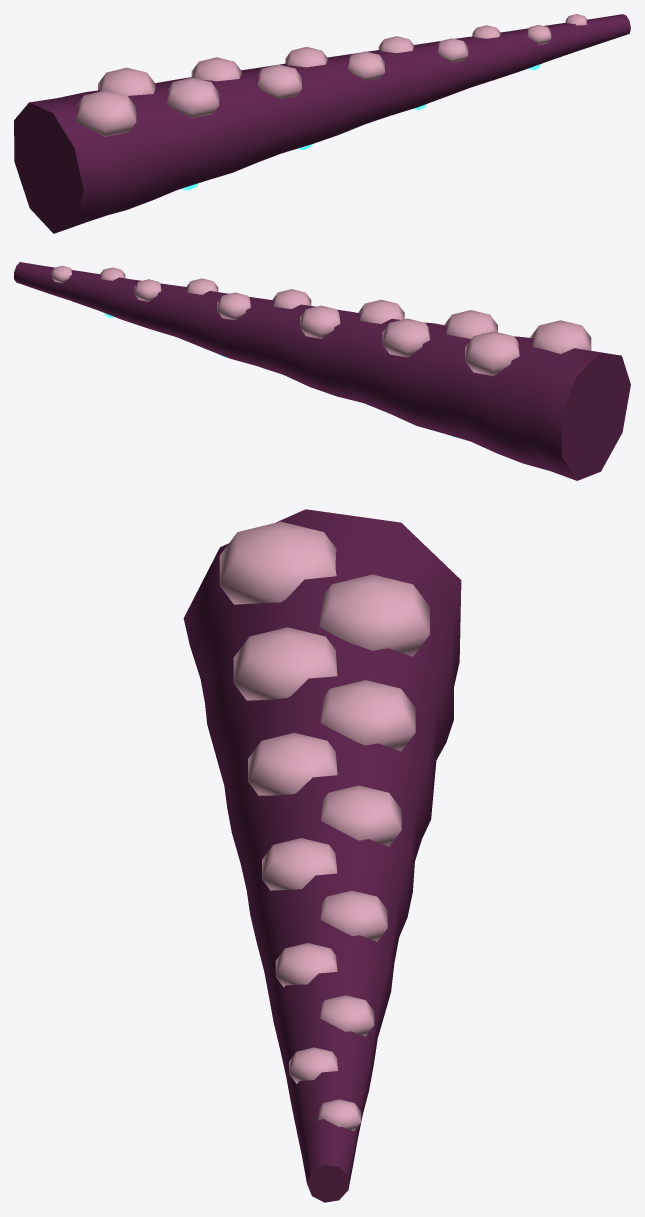
Rendered from kraken-tentacle.glb.
3 views of the same model, one above another, from view 1: azimuth 30°, elevation 25°; view 2: azimuth 150°, elevation 25°; view 3: azimuth 270°, elevation 25° (orthographic). The views are drawn at different scales.
Parts seen in each view (by area): view 1: Mesh_Arm, Mesh_Sucker0, Mesh_Sucker2, Mesh_Sucker1, Mesh_Sucker4, Mesh_Sucker3, Mesh_Sucker6, Mesh_Sucker5, Mesh_Sucker8, Mesh_Sucker7, Mesh_Sucker10; view 2: Mesh_Arm, Mesh_Sucker1, Mesh_Sucker0, Mesh_Sucker3, Mesh_Sucker2, Mesh_Sucker5, Mesh_Sucker4, Mesh_Sucker7, Mesh_Sucker6, Mesh_Sucker9, Mesh_Sucker8; view 3: Mesh_Arm, Mesh_Sucker0, Mesh_Sucker1, Mesh_Sucker2, Mesh_Sucker3, Mesh_Sucker4, Mesh_Sucker5, Mesh_Sucker6, Mesh_Sucker7, Mesh_Sucker8, Mesh_Sucker9, Mesh_Sucker10 (+1 smaller).
Boxes of the visible parts, <box> form: Mesh_Arm: <box>14,14,630,233</box>; Mesh_Sucker0: <box>76,90,136,136</box>; Mesh_Sucker2: <box>166,77,219,118</box>; Mesh_Sucker1: <box>98,67,155,95</box>; Mesh_Sucker4: <box>257,64,301,99</box>; Mesh_Sucker3: <box>191,57,241,81</box>; Mesh_Sucker6: <box>348,51,384,80</box>; Mesh_Sucker5: <box>285,47,327,67</box>; Mesh_Sucker8: <box>437,38,468,62</box>; Mesh_Sucker7: <box>378,36,414,53</box>; Mesh_Sucker10: <box>527,25,551,44</box>; Mesh_Arm: <box>14,262,630,480</box>; Mesh_Sucker1: <box>465,331,519,376</box>; Mesh_Sucker0: <box>530,320,591,353</box>; Mesh_Sucker3: <box>382,318,429,357</box>; Mesh_Sucker2: <box>444,310,497,338</box>; Mesh_Sucker5: <box>300,305,340,338</box>; Mesh_Sucker4: <box>358,299,404,323</box>; Mesh_Sucker7: <box>217,292,250,320</box>; Mesh_Sucker6: <box>272,289,311,308</box>; Mesh_Sucker9: <box>134,279,161,301</box>; Mesh_Sucker8: <box>186,278,218,294</box>; Mesh_Arm: <box>183,509,461,1202</box>; Mesh_Sucker0: <box>219,521,336,604</box>; Mesh_Sucker1: <box>319,574,429,656</box>; Mesh_Sucker2: <box>233,627,337,700</box>; Mesh_Sucker3: <box>320,680,415,751</box>; Mesh_Sucker4: <box>248,732,337,795</box>; Mesh_Sucker5: <box>321,785,401,846</box>; Mesh_Sucker6: <box>262,838,337,890</box>; Mesh_Sucker7: <box>320,890,387,941</box>; Mesh_Sucker8: <box>275,943,337,987</box>; Mesh_Sucker9: <box>320,995,374,1036</box>; Mesh_Sucker10: <box>289,1047,337,1083</box>.
Bounding box in the file's own units: 14 × 3.05 × 2.92.
